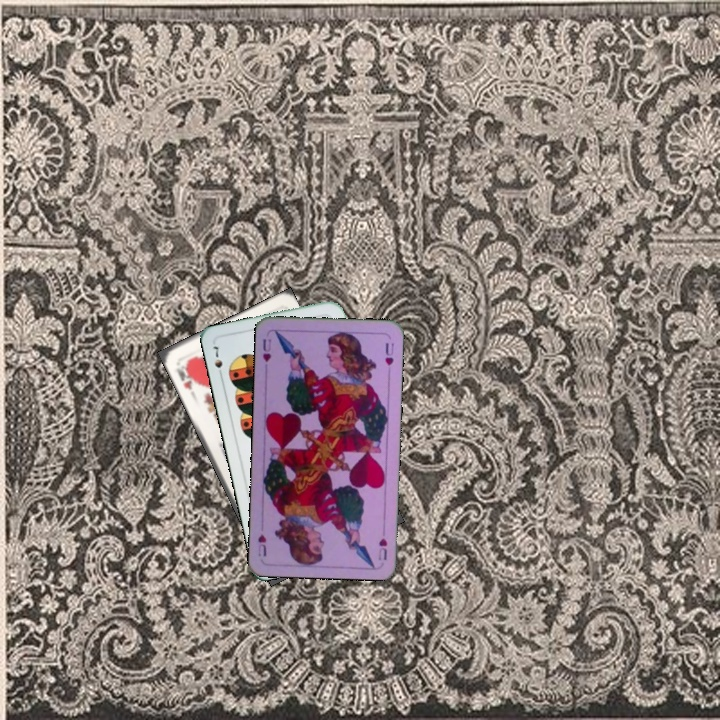HK: (172, 360, 198, 392)
HU: (374, 523, 390, 563), (258, 335, 274, 365)
S7: (209, 341, 225, 381)
